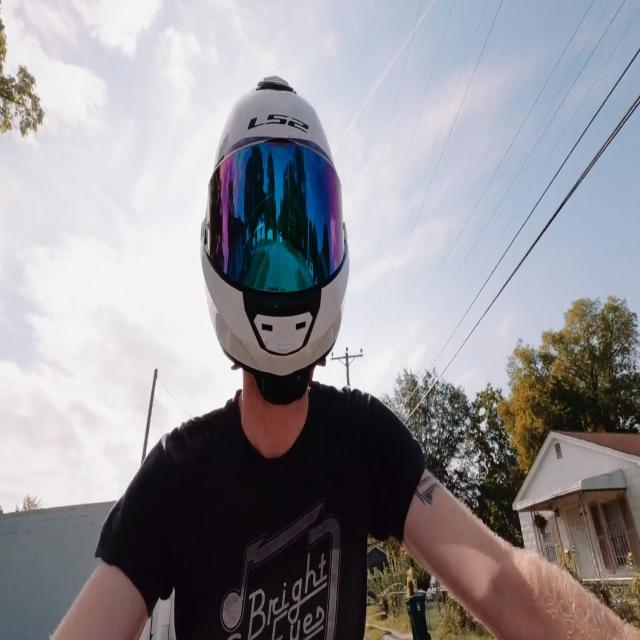Helmet_Wearer: (193, 63, 347, 428)
Person: (54, 79, 549, 640)
